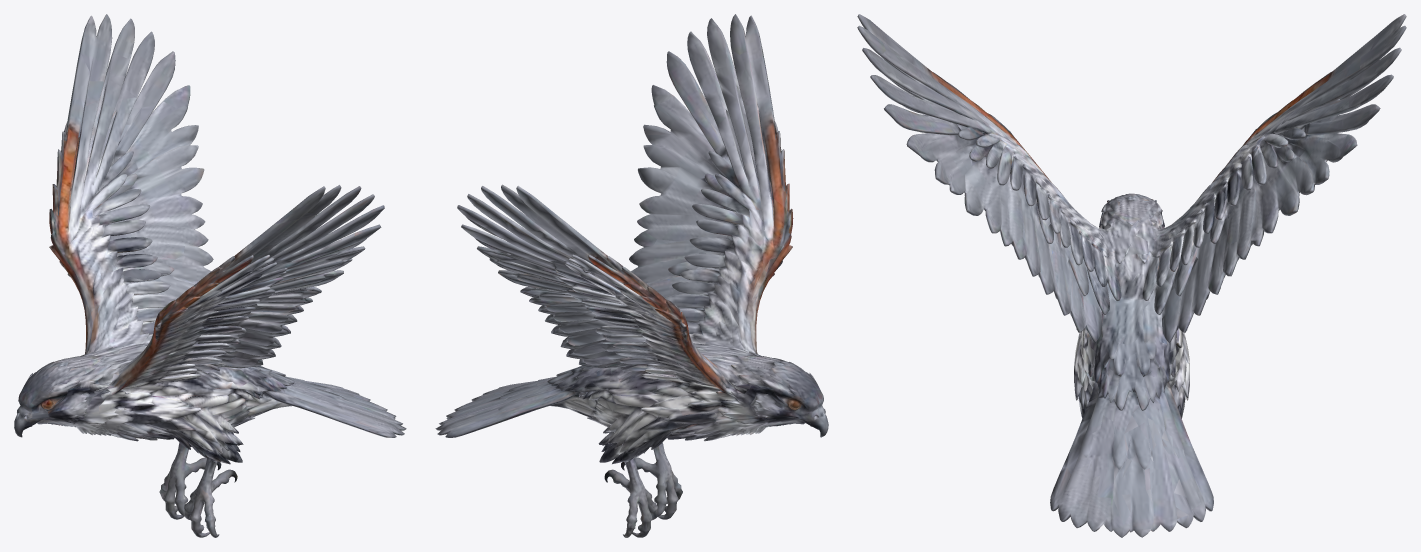
The model's file is falcon-mobile.glb.
The picture shows the model from 3 angles, left to right: view 1: azimuth 30°, elevation 25°; view 2: azimuth 150°, elevation 25°; view 3: azimuth 270°, elevation 25°; orthographic projection. The views are drawn at different scales.
Visible parts, largest first — view 1: node_0.001; view 2: node_0.001; view 3: node_0.001.
Boxes of the visible parts, left/top/right/bottom form: node_0.001: left=14, top=14, right=406, bottom=537; node_0.001: left=435, top=14, right=828, bottom=537; node_0.001: left=857, top=14, right=1406, bottom=537.
Bounding box in the file's own units: 1.86 × 1.99 × 2.
Materials: 1 (1 with a texture image).
